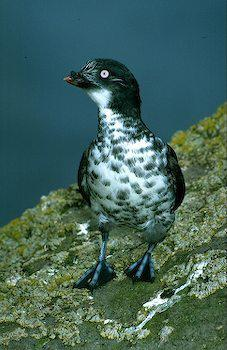006.Least_Auklet: (60, 59, 187, 291)
